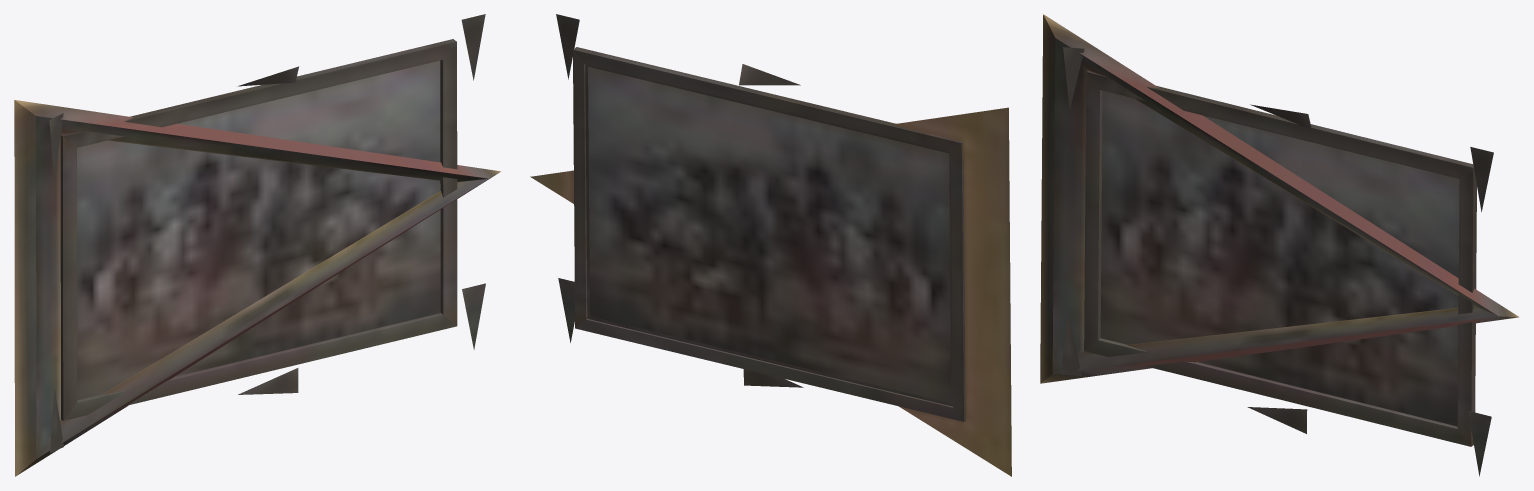
File: painting-hall-5.lod1.glb
The picture shows the model from 3 angles, left to right: view 1: azimuth 30°, elevation 25°; view 2: azimuth 150°, elevation 25°; view 3: azimuth 330°, elevation 25°; orthographic projection.
Parts seen in each view (by area): view 1: painting-hall-5; view 2: painting-hall-5; view 3: painting-hall-5.
Part boxes in pixels (box(x1,y1,x2,y2)): painting-hall-5: box(14, 14, 500, 476); painting-hall-5: box(530, 14, 1011, 476); painting-hall-5: box(1040, 14, 1519, 476).
Bounding box in the file's own units: 0.8338 × 0.6137 × 0.0313.
Materials: 1 (1 with a texture image).
